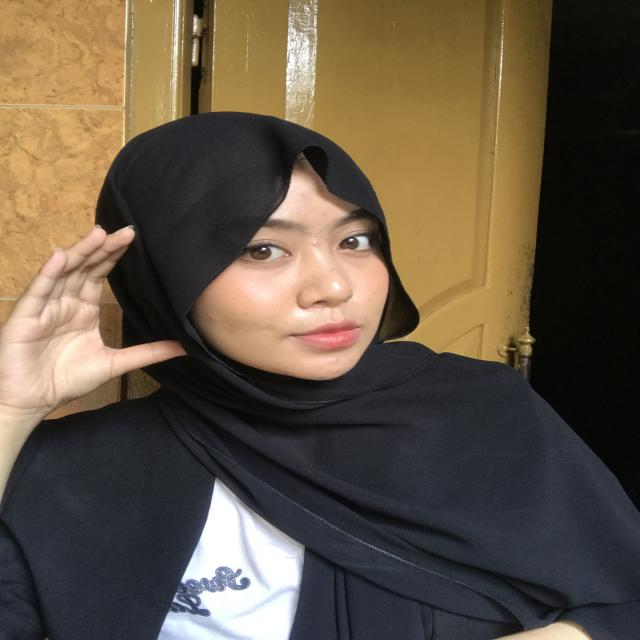mendengar: (0, 189, 204, 398)
